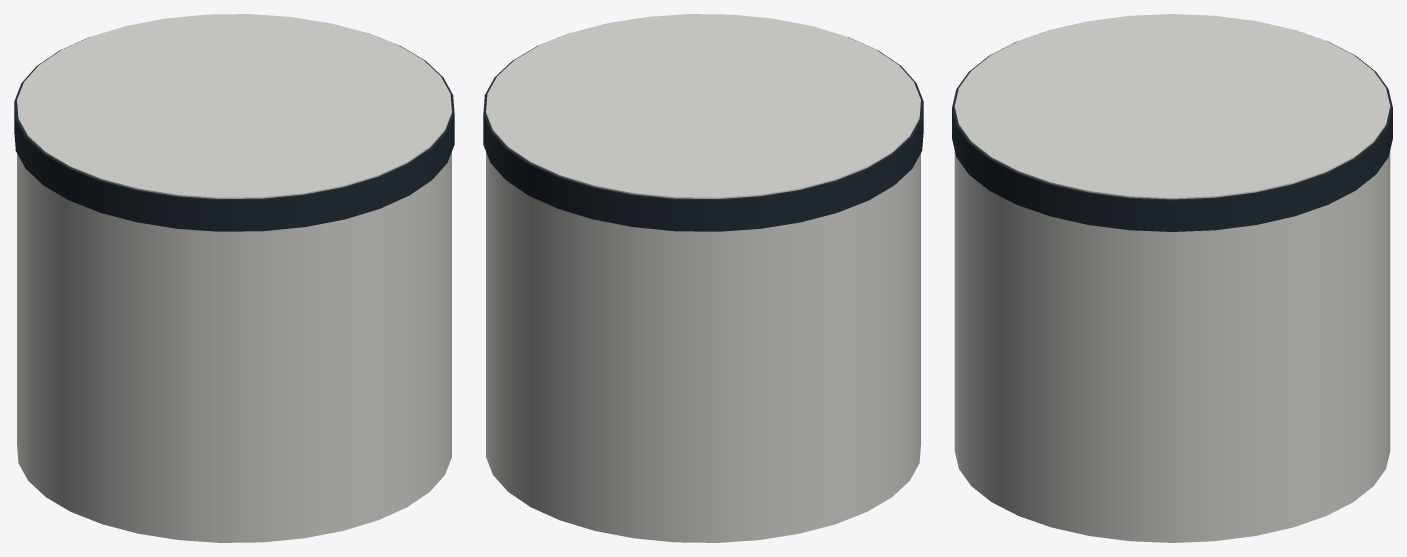
Rendered from orion-stage-1.glb.
The picture shows the model from 3 angles, left to right: view 1: azimuth 30°, elevation 25°; view 2: azimuth 150°, elevation 25°; view 3: azimuth 270°, elevation 25°; orthographic projection.
Parts seen in each view (by area): view 1: body-0, interstage-0; view 2: body-0, interstage-0; view 3: body-0, interstage-0.
Boxes of the visible parts, bbox=[...] form: body-0: bbox=[17, 14, 451, 542]; interstage-0: bbox=[14, 33, 454, 231]; body-0: bbox=[486, 14, 920, 542]; interstage-0: bbox=[483, 33, 923, 231]; body-0: bbox=[954, 14, 1390, 542]; interstage-0: bbox=[952, 41, 1392, 231].
Size of the model in its own units: 5.06 by 4.67 by 5.06.
